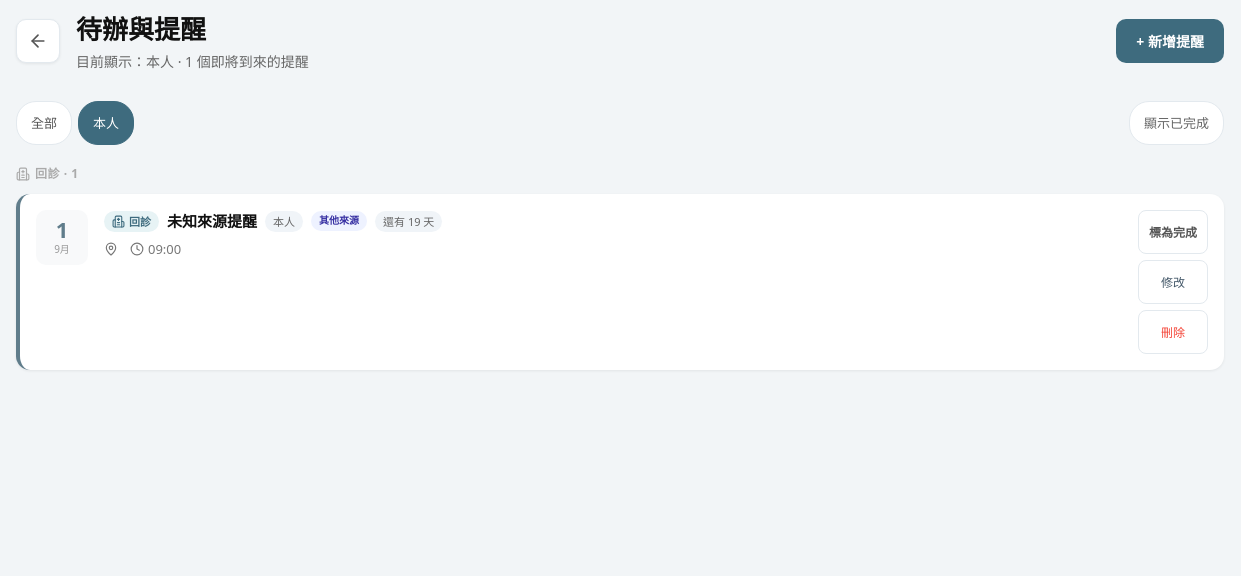
Test: RemindersPage recoverable deletion retries › humanizes technical member labels and never exposes unknown reminder sources
Expected: the text "未知來源提醒" is shown, [167, 210, 257, 233]
Click the button "全部" at (44, 123), box [16, 101, 72, 145]
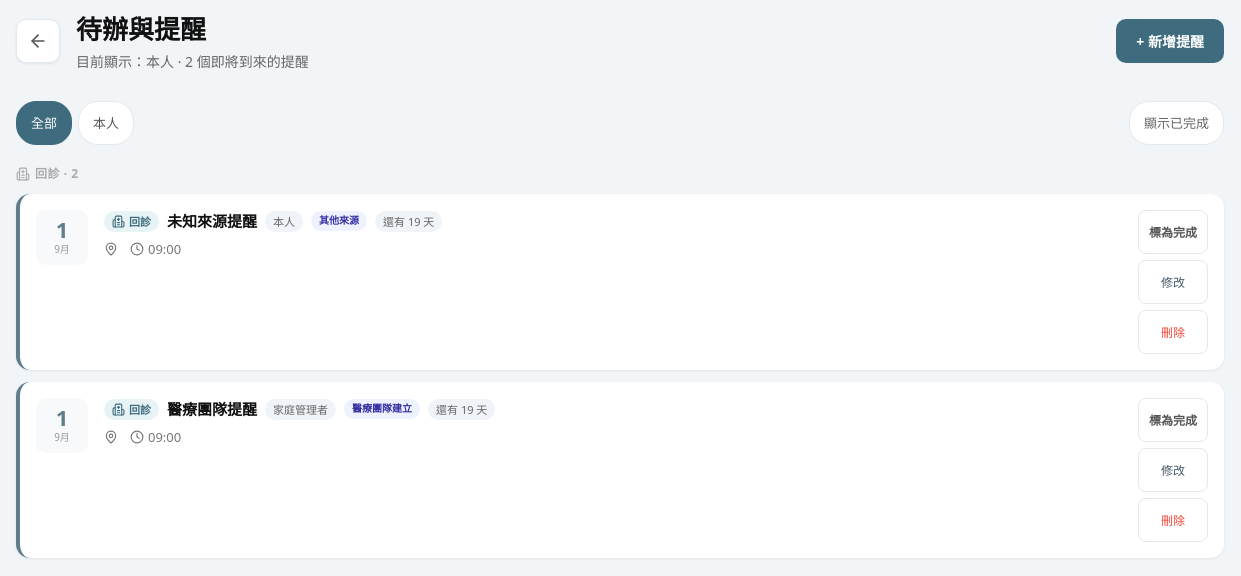
Expected: the text "其他來源" is shown, [311, 212, 367, 231]
Expected: the text "醫療團隊建立" is shown, [344, 400, 420, 419]
Expected: the text "家庭管理者" is shown, [265, 399, 336, 420]
